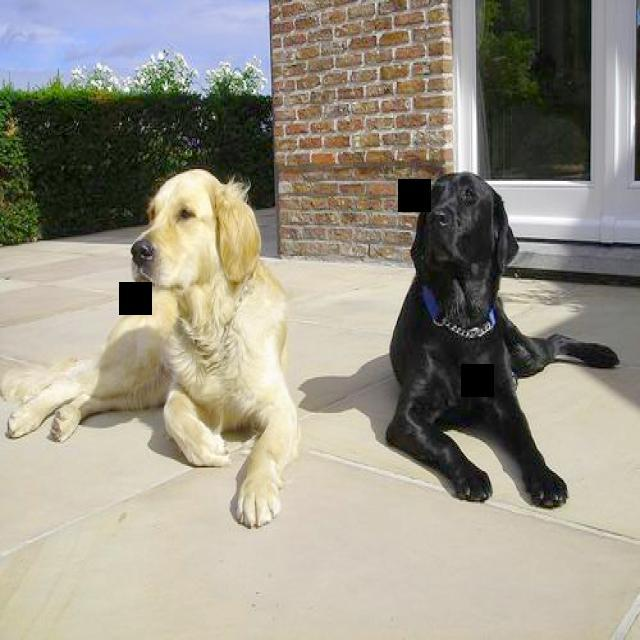adult_dog: (3, 163, 301, 532), (384, 169, 622, 512)
